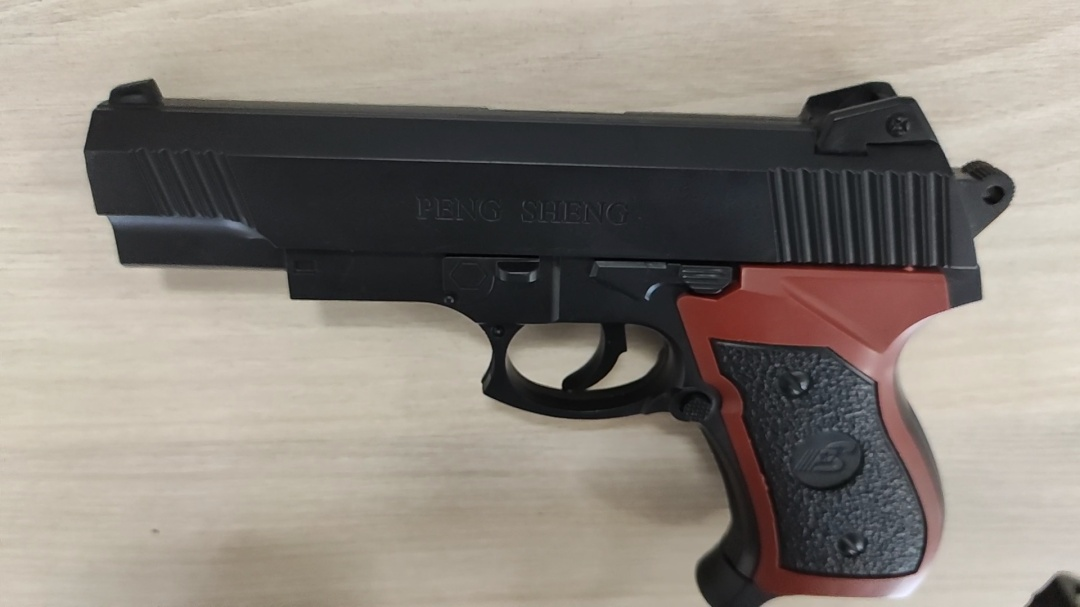gun: (404, 234, 488, 303)
